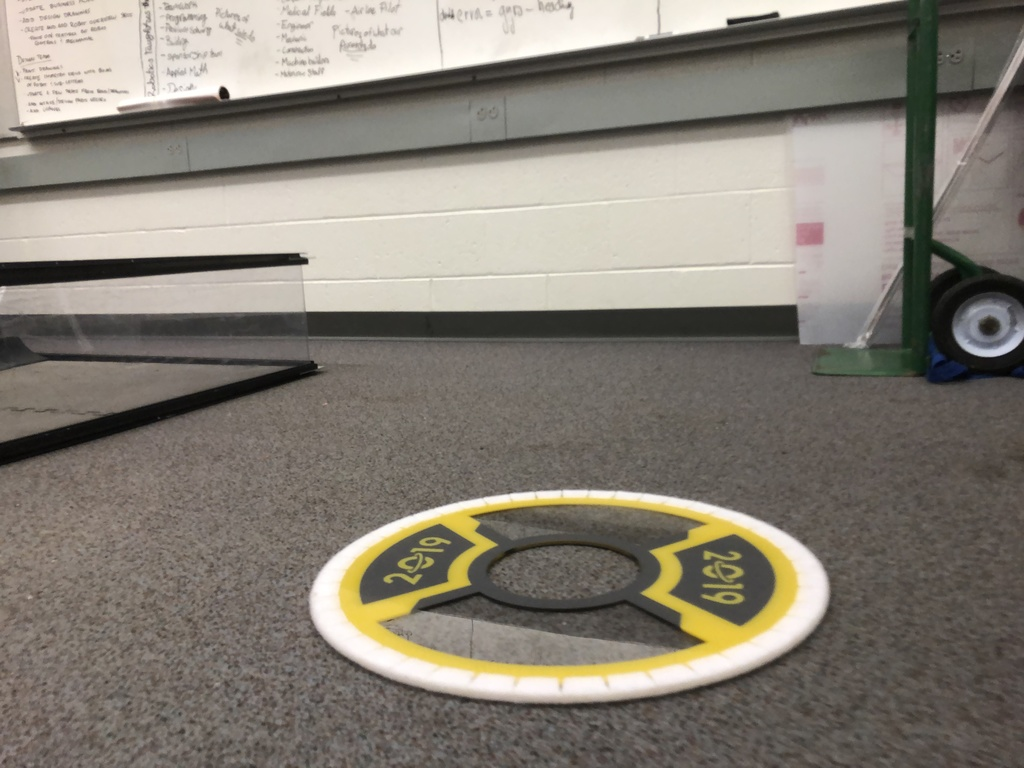hatch_panel: (299, 477, 840, 695)
